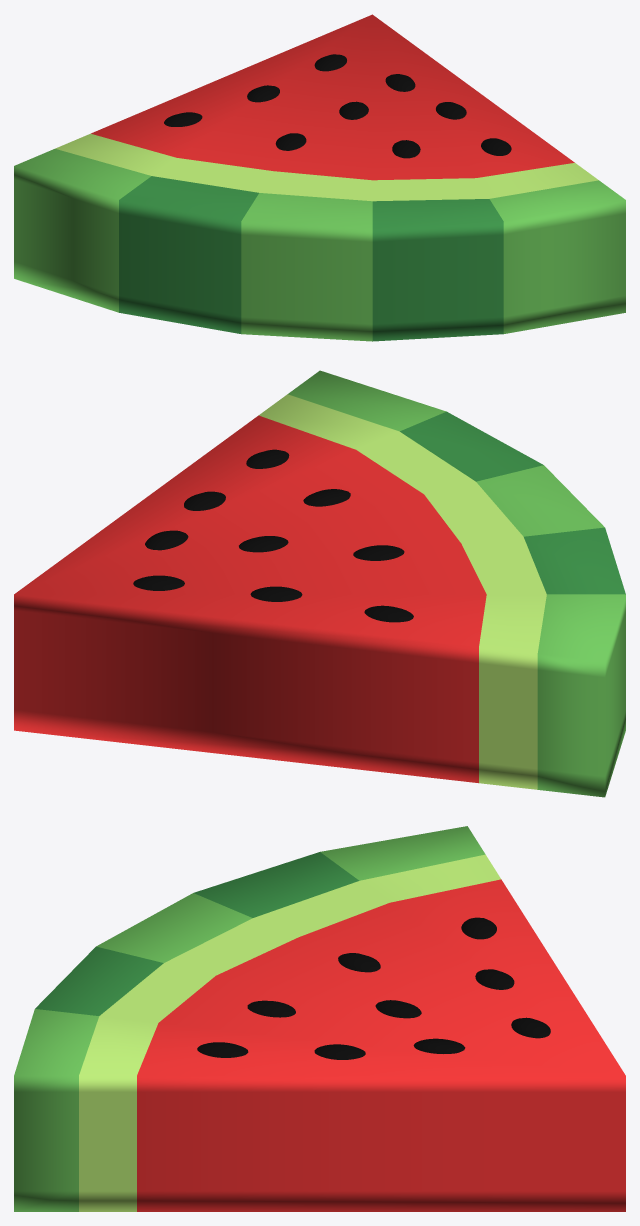
The model's file is Watermelon.fbx.
3 views of the same model, one above another, from view 1: azimuth 30°, elevation 25°; view 2: azimuth 150°, elevation 25°; view 3: azimuth 270°, elevation 25° (orthographic). The views are drawn at different scales.
Visible parts, largest first — view 1: Watermelon; view 2: Watermelon; view 3: Watermelon.
Part boxes in pixels (x1=…): Watermelon: x1=14, y1=14, x2=625, y2=341; Watermelon: x1=14, y1=370, x2=625, y2=797; Watermelon: x1=14, y1=826, x2=625, y2=1211.
Bounding box in the file's own units: 96.59 × 26.72 × 100.
